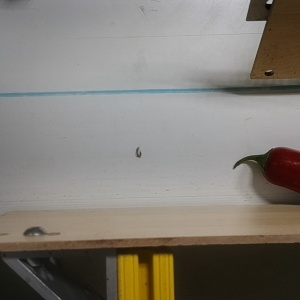Cut Point: (254, 145, 285, 183)
